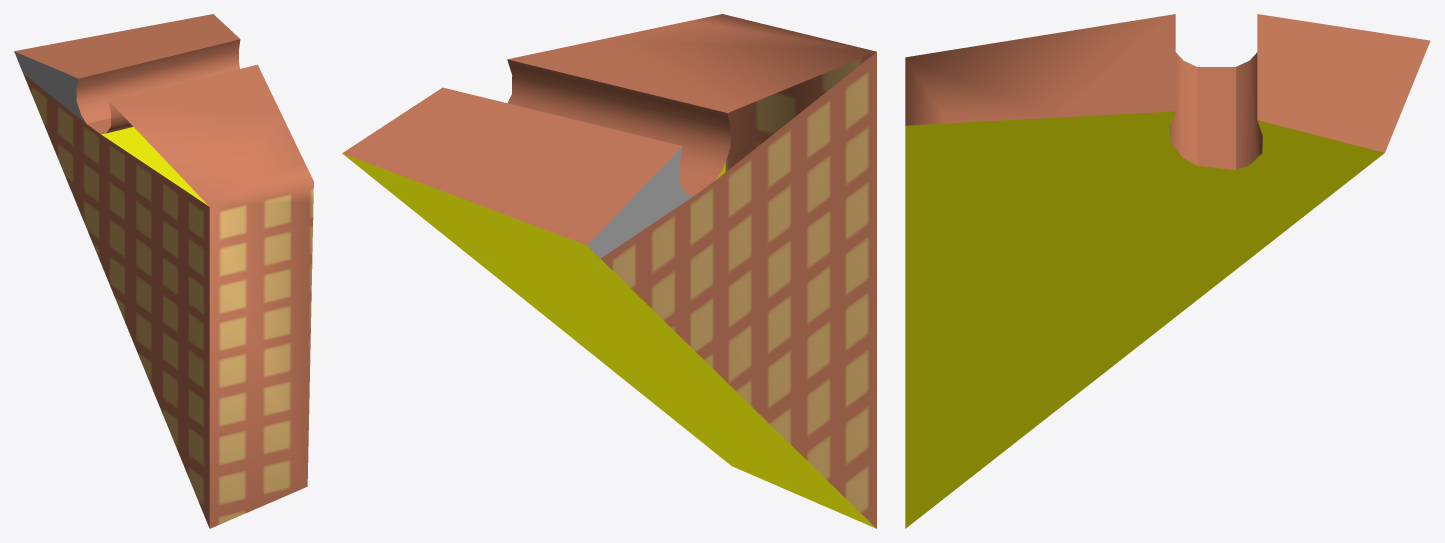
File: stShard5.fbx
3 renders of one model, left to right at view 1: azimuth 30°, elevation 25°; view 2: azimuth 150°, elevation 25°; view 3: azimuth 270°, elevation 25°, orthographic. The views are drawn at different scales.
Visible parts, largest first — view 1: shard30; view 2: shard30; view 3: shard30.
Boxes of the visible parts, x1,y1,x2,y2 form: shard30: (14, 14, 313, 528); shard30: (342, 14, 876, 528); shard30: (905, 14, 1430, 528).
Size of the model in its own units: 0.0788 by 0.1464 by 0.1466.
3 materials, 1 textured.
